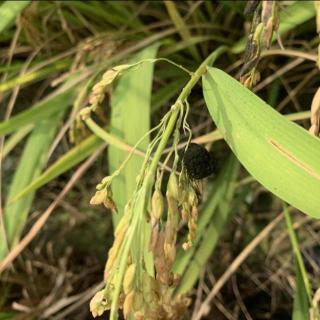Gosong-Palsu: (179, 140, 216, 182)
